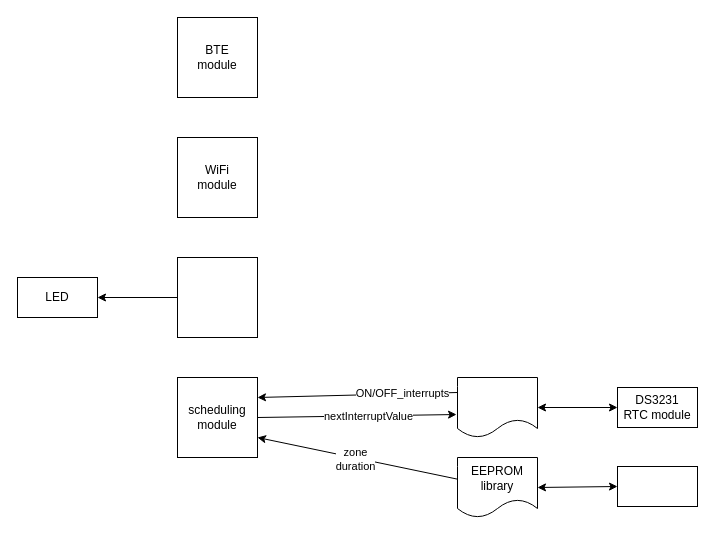
Image size: 715x535. Some labels were removed from this diagram. The shapes that lost their labels are listed below. From the top down, each one's box as (x1, y1, x2, y2) in pixels, then its label:
(176, 256, 258, 338): LED module
(456, 376, 538, 438): RTClib (Adafruit) library
(616, 466, 698, 506): EEPROM
